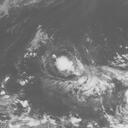cyclone: (54, 52, 112, 97)
